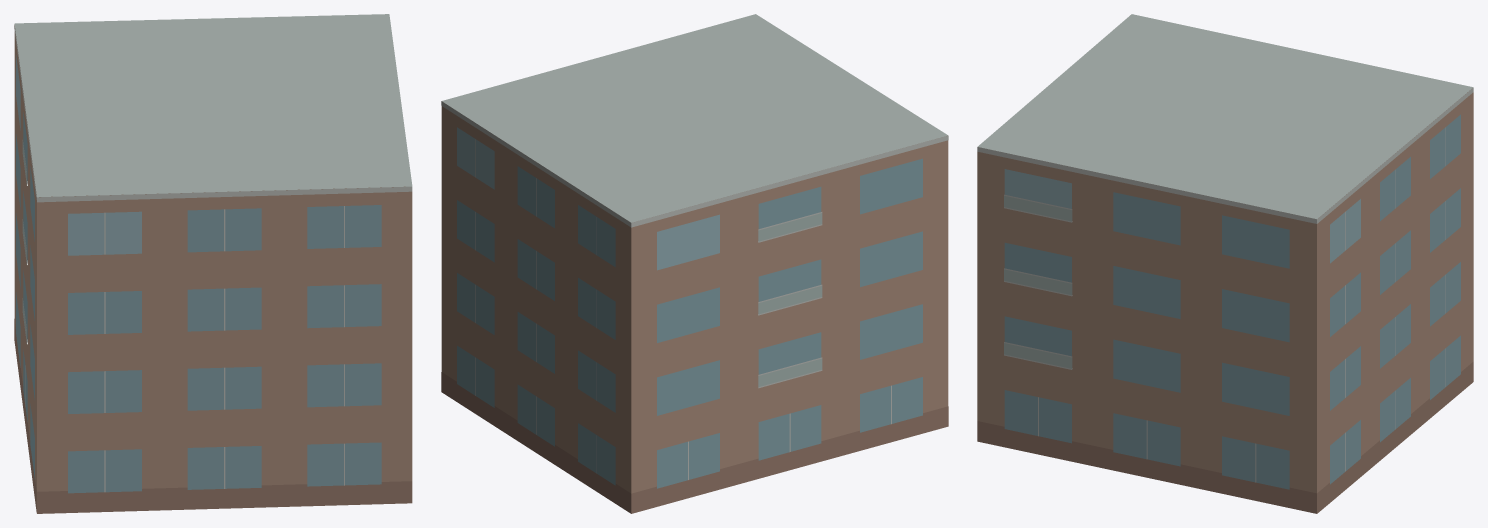
The model's file is survey-upis-32492125.glb.
3 views of the same model, side by side, from view 1: azimuth 30°, elevation 25°; view 2: azimuth 150°, elevation 25°; view 3: azimuth 270°, elevation 25° (orthographic). The views are drawn at different scales.
Parts seen in each view (by area): view 1: survey-upis-32492125.tmp; view 2: survey-upis-32492125.tmp; view 3: survey-upis-32492125.tmp.
Part boxes in pixels (bbox=[...]): survey-upis-32492125.tmp: bbox=[14, 14, 412, 513]; survey-upis-32492125.tmp: bbox=[441, 14, 948, 513]; survey-upis-32492125.tmp: bbox=[977, 14, 1473, 513].
Size of the model in its own units: 22.34 by 14.95 by 22.83.
